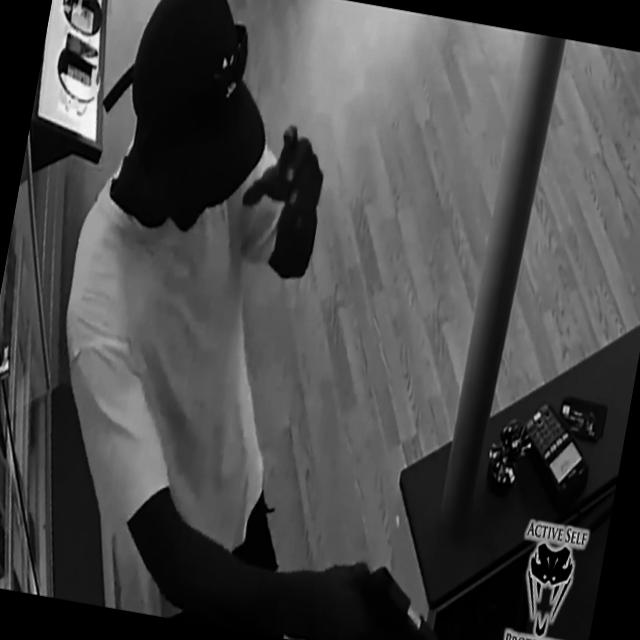gun: (318, 542, 456, 640)
person with a gun: (18, 0, 549, 640)
